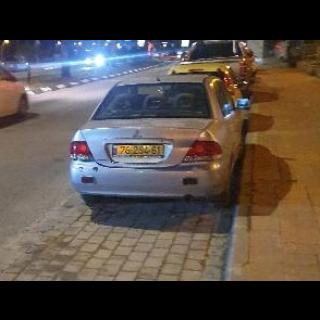LicensePlate: (118, 145, 163, 154)
